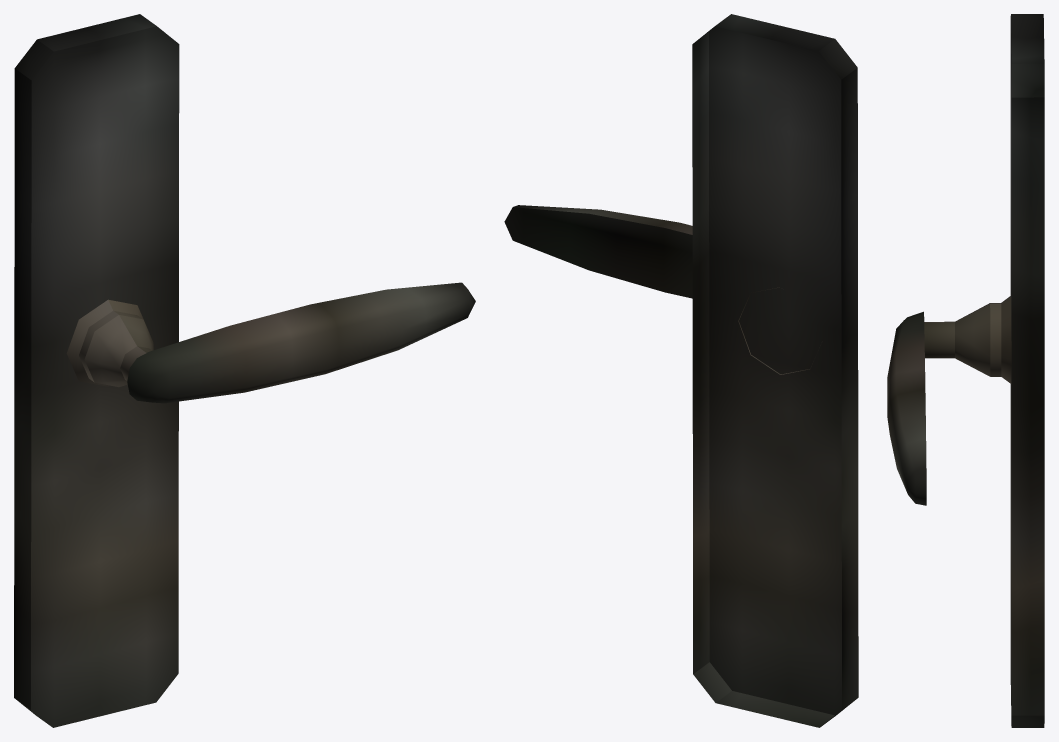
File: DoorHandle.FBX
3 views of the same model, side by side, from view 1: azimuth 30°, elevation 25°; view 2: azimuth 150°, elevation 25°; view 3: azimuth 270°, elevation 25° (orthographic).
Parts seen in each view (by area): view 1: DoorHandle; view 2: DoorHandle; view 3: DoorHandle.
Boxes of the visible parts, <box> form: DoorHandle: <box>14,14,475,727</box>; DoorHandle: <box>504,14,858,727</box>; DoorHandle: <box>887,14,1044,727</box>.
Size of the model in its own units: 17.77 by 28.93 by 6.21.
